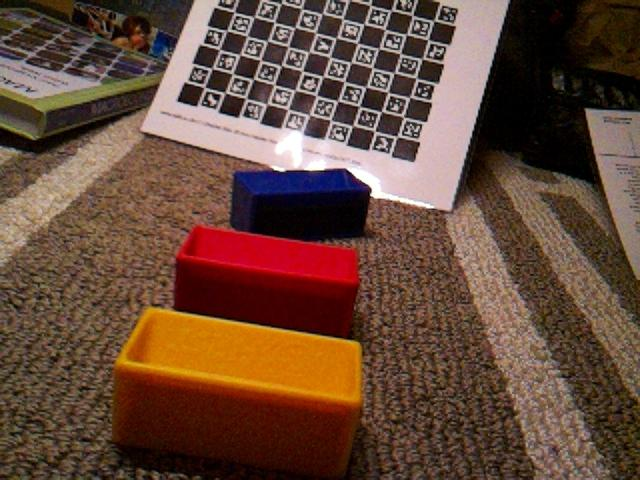blue: (229, 167, 372, 240)
red: (172, 223, 361, 338)
yellow: (110, 305, 365, 479)
